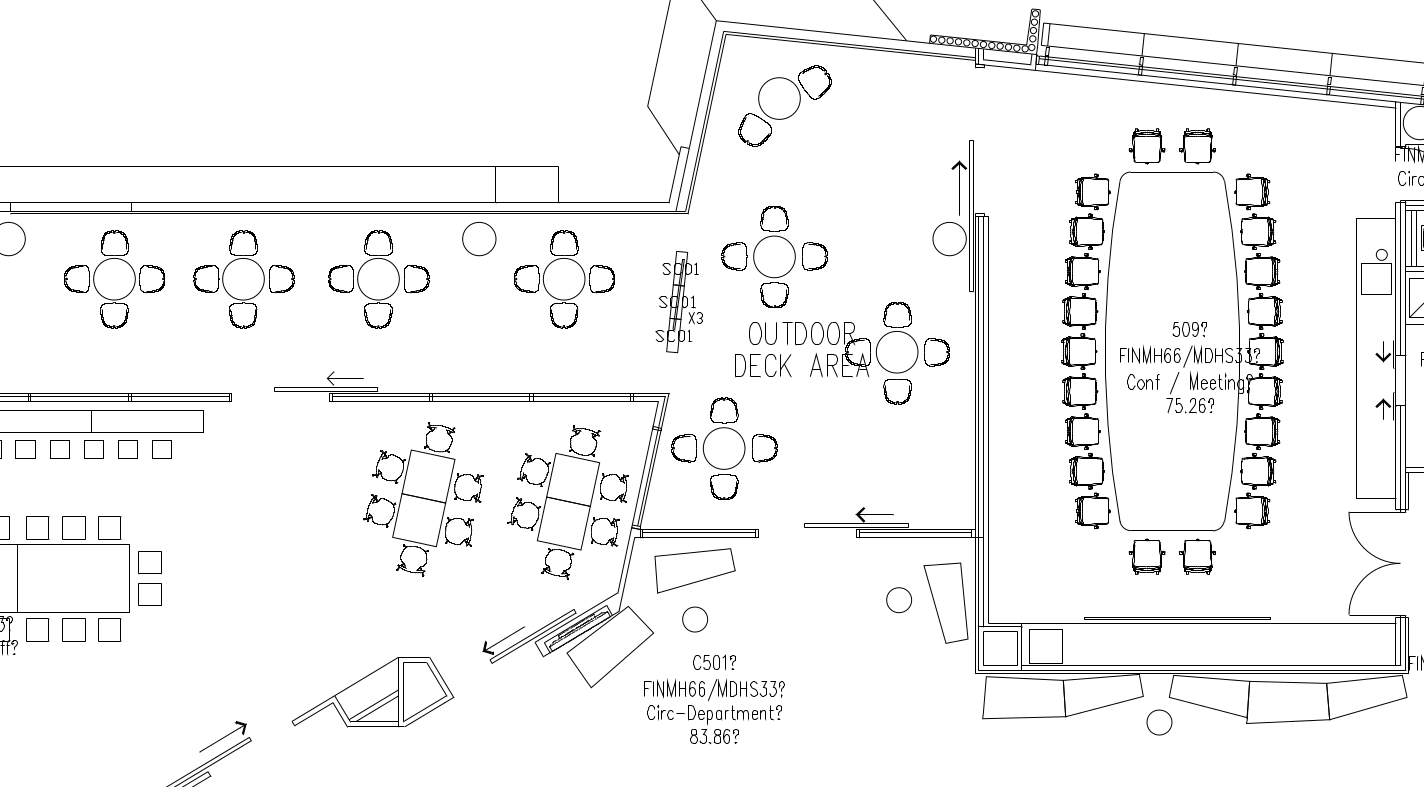door: (1340, 507, 1407, 618)
